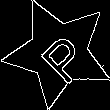P_NW: (27, 21, 89, 84)
